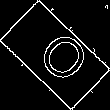O_SW: (22, 22, 88, 88)
